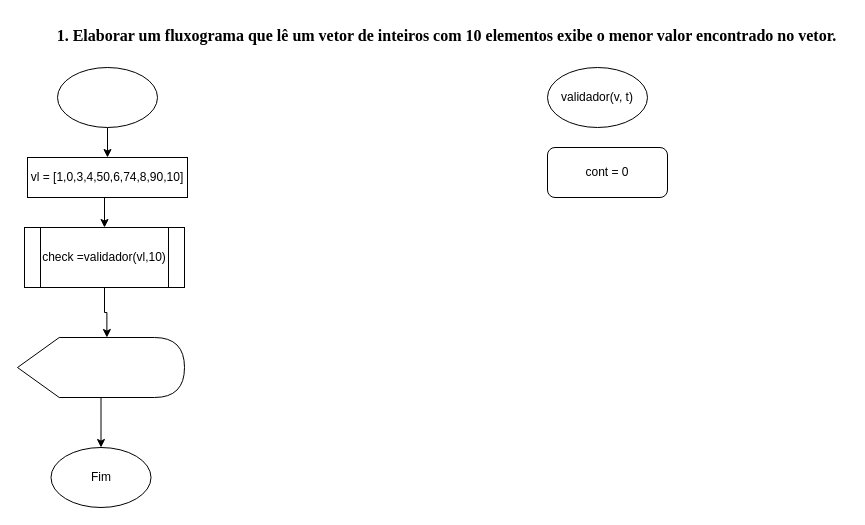
This 865x525 diagram has some shape labels left out. The centre of each missing label's shape, as x and y in pixels:
f'O menor valor é {verificador}': (100,367)
Inicio: (107,97)
